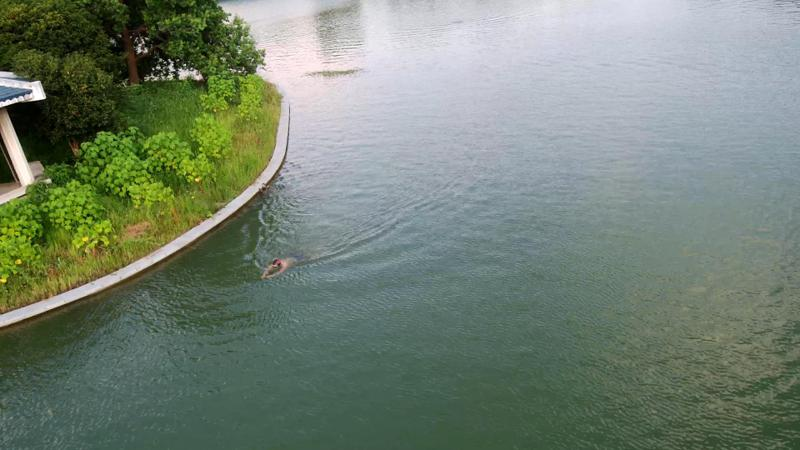swimmers: (259, 249, 311, 279)
